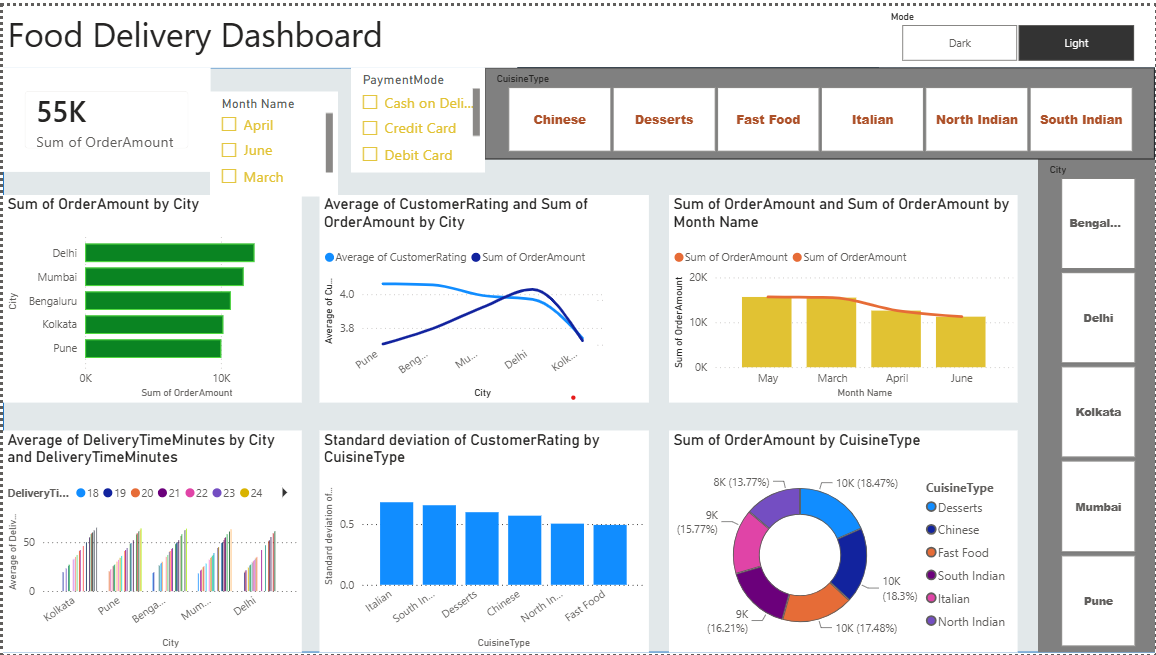

The page's visual inventory and layout, read from the dashboard file:
{"tool":"powerbi","page":{"name":"Page 1","canvas":[1280,720],"ordinal":0},"visuals":[{"type":"shape","box":[0,67.9,1280.4,650],"z":0},{"type":"clusteredBarChart","fields":{"Category":["FoodDelivery.City"],"Y":["Sum(FoodDelivery.OrderAmount)"]},"box":[0,210.7,332.1,230.4],"z":1000},{"type":"donutChart","fields":{"Category":["FoodDelivery.CuisineType"],"Y":["Sum(FoodDelivery.OrderAmount)"]},"box":[739.3,471.4,387.5,246.4],"z":2000},{"type":"clusteredColumnChart","fields":{"Category":["FoodDelivery.City"],"Series":["FoodDelivery.DeliveryTimeMinutes"],"Y":["Avg(FoodDelivery.DeliveryTimeMinutes)"]},"box":[0,471.4,332.1,246.4],"z":3000},{"type":"clusteredColumnChart","fields":{"Category":["FoodDelivery.CuisineType"],"Y":["Avg(FoodDelivery.CustomerRating)"]},"box":[351.8,471.4,366.1,246.4],"z":4000},{"type":"cardVisual","fields":{"Data":["Sum(FoodDelivery.OrderAmount)"]},"box":[0,67.9,230.4,116.1],"z":5000},{"type":"slicer","fields":{"Values":["FoodDelivery.City"]},"box":[1150,169.6,132.1,548.2],"z":6000},{"type":"slicer","fields":{"Values":["FoodDelivery.CuisineType"]},"box":[535.7,67.9,744.6,101.8],"z":7000},{"type":"lineChart","fields":{"Category":["FoodDelivery.City"],"Y":["Avg(FoodDelivery.CustomerRating)"],"Y2":["Sum(FoodDelivery.OrderAmount)"]},"box":[351.8,210.7,366.1,230.4],"z":8000},{"type":"lineStackedColumnComboChart","fields":{"Category":["FoodDelivery.Month Name"],"Y":["Sum(FoodDelivery.OrderAmount)"],"Y2":["Sum(FoodDelivery.OrderAmount)"]},"box":[739.3,210.7,387.5,230.4],"z":9000},{"type":"slicer","fields":{"Values":["FoodDelivery.Month Name"]},"box":[245,66.7,141.4,115.7],"z":10000},{"type":"slicer","fields":{"Values":["FoodDelivery.PaymentMode"]},"box":[387.5,67.9,148.6,115.7],"z":11000},{"type":"slicer","fields":{"Values":["Table.Mode"]},"box":[973.2,0,307.1,67.9],"z":12000},{"type":"textbox","box":[0,0,571.4,68.6],"z":13000}]}

Visuals, with their boxes in screenshot pixels (x1, y1, x2, y2), scaled from the page's 1280x720 canvas onto the 1156x655 screenshot:
shape: [x1=0, y1=62, x2=1155, y2=653]
clusteredBarChart - FoodDelivery.City x Sum(FoodDelivery.OrderAmount): [x1=0, y1=192, x2=300, y2=401]
donutChart - FoodDelivery.CuisineType x Sum(FoodDelivery.OrderAmount): [x1=668, y1=429, x2=1018, y2=653]
clusteredColumnChart - FoodDelivery.City x FoodDelivery.DeliveryTimeMinutes: [x1=0, y1=429, x2=300, y2=653]
clusteredColumnChart - FoodDelivery.CuisineType x Avg(FoodDelivery.CustomerRating): [x1=318, y1=429, x2=648, y2=653]
cardVisual - Sum(FoodDelivery.OrderAmount): [x1=0, y1=62, x2=208, y2=167]
slicer - FoodDelivery.City: [x1=1039, y1=154, x2=1155, y2=653]
slicer - FoodDelivery.CuisineType: [x1=484, y1=62, x2=1155, y2=154]
lineChart - FoodDelivery.City x Avg(FoodDelivery.CustomerRating): [x1=318, y1=192, x2=648, y2=401]
lineStackedColumnComboChart - FoodDelivery.Month Name x Sum(FoodDelivery.OrderAmount): [x1=668, y1=192, x2=1018, y2=401]
slicer - FoodDelivery.Month Name: [x1=221, y1=61, x2=349, y2=166]
slicer - FoodDelivery.PaymentMode: [x1=350, y1=62, x2=484, y2=167]
slicer - Table.Mode: [x1=879, y1=0, x2=1155, y2=62]
textbox: [x1=0, y1=0, x2=516, y2=62]
